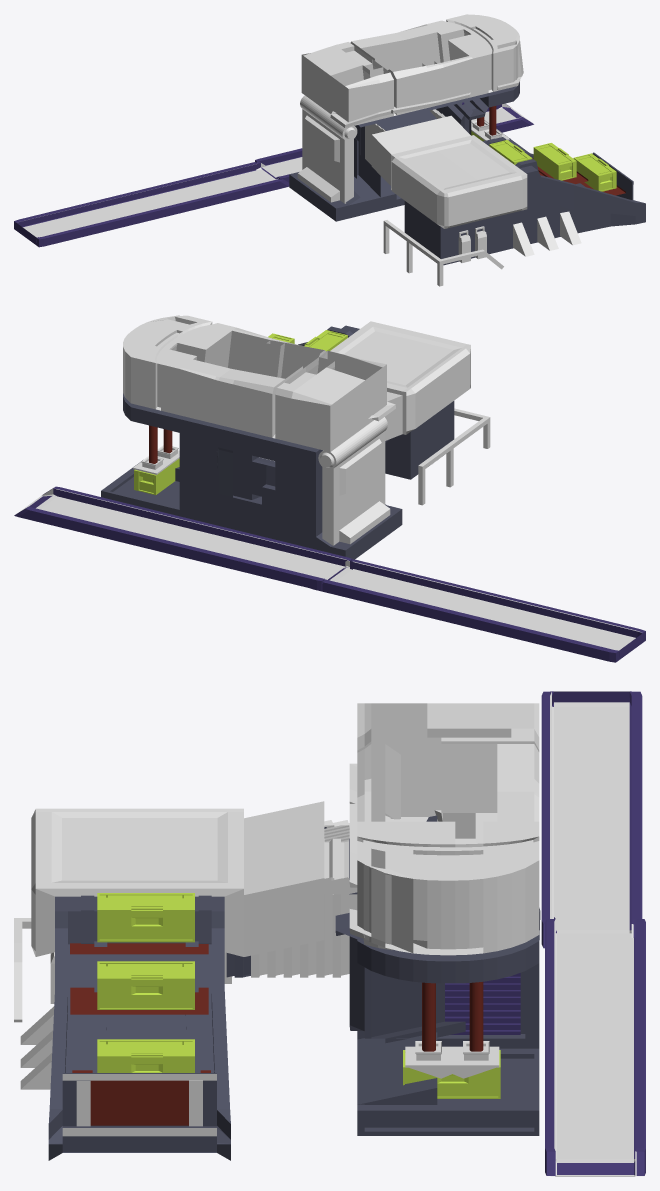
File: Comic Con Factory Asset.fbx
The picture shows the model from 3 angles, top to bottom: view 1: azimuth 30°, elevation 25°; view 2: azimuth 150°, elevation 25°; view 3: azimuth 270°, elevation 25°; orthographic projection. The views are drawn at different scales.
Parts seen in each view (by area): view 1: Плоскость, Куб, Цилиндр, Куб.001, Плоскость.001, Куб.002, Куб.008, Куб.009, Плоскость.002, Куб.007; view 2: Плоскость, Куб.001, Куб, Цилиндр, Куб.002, Куб.006, Куб.007; view 3: Плоскость, Куб.001, Куб, Куб.007, Куб.008, Куб.009, Плоскость.007, Куб.006, Плоскость.001, Куб.005, Плоскость.005, Плоскость.004 (+3 smaller).
Boxes of the visible parts, x1=… form: Плоскость: x1=289, y1=14, x2=645, y2=265; Куб: x1=14, y1=161, x2=289, y2=247; Цилиндр: x1=297, y1=95, x2=357, y2=203; Куб.001: x1=255, y1=103, x2=533, y2=182; Плоскость.001: x1=513, y1=211, x2=581, y2=256; Куб.002: x1=383, y1=220, x2=503, y2=286; Куб.008: x1=533, y1=143, x2=576, y2=180; Куб.009: x1=573, y1=153, x2=616, y2=191; Плоскость.002: x1=458, y1=226, x2=486, y2=262; Куб.007: x1=489, y1=140, x2=532, y2=164; Плоскость: x1=101, y1=315, x2=470, y2=559; Куб.001: x1=14, y1=486, x2=352, y2=590; Куб: x1=311, y1=559, x2=645, y2=662; Цилиндр: x1=318, y1=417, x2=390, y2=545; Куб.002: x1=418, y1=408, x2=490, y2=505; Куб.006: x1=134, y1=458, x2=179, y2=495; Куб.007: x1=304, y1=330, x2=347, y2=351; Плоскость: x1=31, y1=703, x2=540, y2=1160; Куб.001: x1=545, y1=917, x2=645, y2=1176; Куб: x1=541, y1=691, x2=642, y2=948; Куб.007: x1=97, y1=893, x2=194, y2=942; Куб.008: x1=97, y1=961, x2=194, y2=1009; Куб.009: x1=97, y1=1039, x2=194, y2=1072; Плоскость.007: x1=445, y1=973, x2=520, y2=1034; Куб.006: x1=403, y1=1050, x2=500, y2=1098; Плоскость.001: x1=20, y1=1006, x2=54, y2=1089; Куб.005: x1=405, y1=1046, x2=499, y2=1078; Плоскость.005: x1=70, y1=987, x2=208, y2=1014; Плоскость.004: x1=70, y1=943, x2=208, y2=954.
Size of the model in its own units: 491 by 138 by 278.
